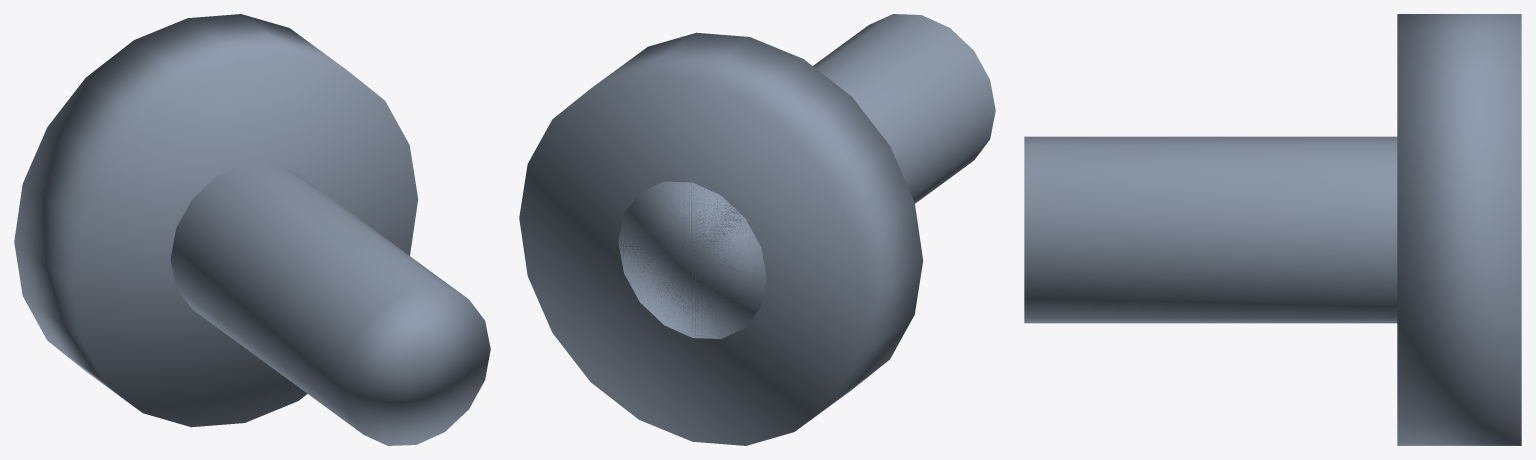
The model's file is SM_Antenne_Mat.obj.
3 views of the same model, side by side, from view 1: azimuth 30°, elevation 25°; view 2: azimuth 150°, elevation 25°; view 3: azimuth 270°, elevation 25° (orthographic). The views are drawn at different scales.
Size of the model in its own units: 1400 by 1400 by 1600.
